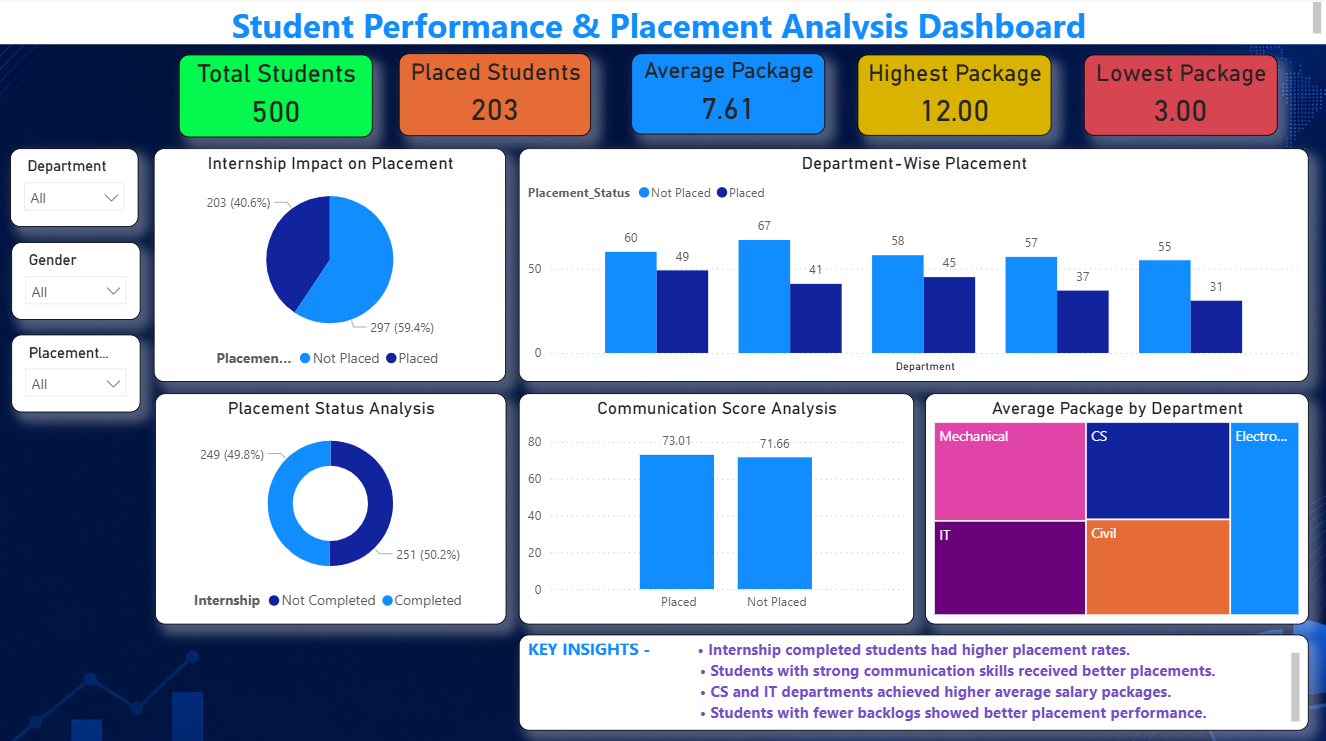

This screenshot's page, from the dashboard's own definition file:
{"tool":"powerbi","page":{"name":"Page 1","canvas":[1280,720],"ordinal":0},"visuals":[{"type":"textbox","box":[0,0,1280,45.8],"z":0},{"type":"clusteredColumnChart","title":"Department-Wise Placement","fields":{"Category":["student_performance_placement_dataset(Student_Performance Data ).Department"],"Y":["CountNonNull(student_performance_placement_dataset(Student_Performance Data ).Student_ID)"],"Series":["student_performance_placement_dataset(Student_Performance Data ).Placement_Status"]},"box":[500.7,146,762.5,225.6],"z":1000},{"type":"donutChart","title":"Internship Impact on Placement","fields":{"Category":["student_performance_placement_dataset(Student_Performance Data ).Placement_Status"],"Y":["CountNonNull(student_performance_placement_dataset(Student_Performance Data ).Student_ID)"]},"box":[148.4,146,340.2,225.6],"z":2000},{"type":"pieChart","title":"Placement Status Analysis","fields":{"Category":["student_performance_placement_dataset(Student_Performance Data ).Internship"],"Y":["CountNonNull(student_performance_placement_dataset(Student_Performance Data ).Student_ID)"]},"box":[149.6,382.4,339,223.2],"z":3000},{"type":"columnChart","title":"Communication Score Analysis","fields":{"Category":["student_performance_placement_dataset(Student_Performance Data ).Placement_Status"],"Y":["Avg(student_performance_placement_dataset(Student_Performance Data ).Communication_Score)"]},"box":[500.7,382.4,381.2,223.2],"z":4000},{"type":"slicer","fields":{"Values":["student_performance_placement_dataset(Student_Performance Data ).Department"]},"box":[9.7,146,124.3,76],"z":5000},{"type":"slicer","fields":{"Values":["student_performance_placement_dataset(Student_Performance Data ).Gender"]},"box":[11,236,124.9,75.5],"z":6000},{"type":"slicer","fields":{"Values":["student_performance_placement_dataset(Student_Performance Data ).Placement_Status"]},"box":[11,325.2,124.9,75.5],"z":7000},{"type":"card","title":"Total Students","fields":{"Values":["CountNonNull(student_performance_placement_dataset(Student_Performance Data ).Student_ID)"]},"box":[172.5,55.5,187,79.6],"z":8000},{"type":"card","title":"Placed Students","fields":{"Values":["CountNonNull(student_performance_placement_dataset(Student_Performance Data ).Placement_Status)"]},"box":[384.9,54.3,185.8,79.6],"z":9000},{"type":"card","title":"Average Package","fields":{"Values":["Avg(student_performance_placement_dataset(Student_Performance Data ).Package_LPA)"]},"box":[609.3,54.3,187,78.4],"z":9001},{"type":"card","title":"Highest Package","fields":{"Values":["Max(student_performance_placement_dataset(Student_Performance Data ).Package_LPA)"]},"box":[827.6,55.5,187,78.4],"z":9002},{"type":"card","title":"Lowest Package","fields":{"Values":["Min(student_performance_placement_dataset(Student_Performance Data ).Package_LPA)"]},"box":[1046,55.5,187,78.4],"z":9003},{"type":"treemap","title":"Average Package by Department","fields":{"Values":["Avg(student_performance_placement_dataset(Student_Performance Data ).Package_LPA)"],"Group":["student_performance_placement_dataset(Student_Performance Data ).Department"]},"box":[892.8,382.4,370.4,223.2],"z":9004},{"type":"textbox","box":[500.7,615.3,762.5,92.9],"z":9005}]}

Visuals, with their boxes in screenshot pixels (x1, y1, x2, y2), scaled from the page's 1280x720 canvas onto the 1326x741 screenshot:
textbox: 0, 0, 1325, 47
"Department-Wise Placement" clusteredColumnChart: 519, 150, 1309, 382
"Internship Impact on Placement" donutChart: 154, 150, 506, 382
"Placement Status Analysis" pieChart: 155, 394, 506, 623
"Communication Score Analysis" columnChart: 519, 394, 914, 623
slicer - student_performance_placement_dataset(Student_Performance Data ).Department: 10, 150, 139, 228
slicer - student_performance_placement_dataset(Student_Performance Data ).Gender: 11, 243, 141, 321
slicer - student_performance_placement_dataset(Student_Performance Data ).Placement_Status: 11, 335, 141, 412
"Total Students" card: 179, 57, 372, 139
"Placed Students" card: 399, 56, 591, 138
"Average Package" card: 631, 56, 825, 137
"Highest Package" card: 857, 57, 1051, 138
"Lowest Package" card: 1084, 57, 1277, 138
"Average Package by Department" treemap: 925, 394, 1309, 623
textbox: 519, 633, 1309, 729
